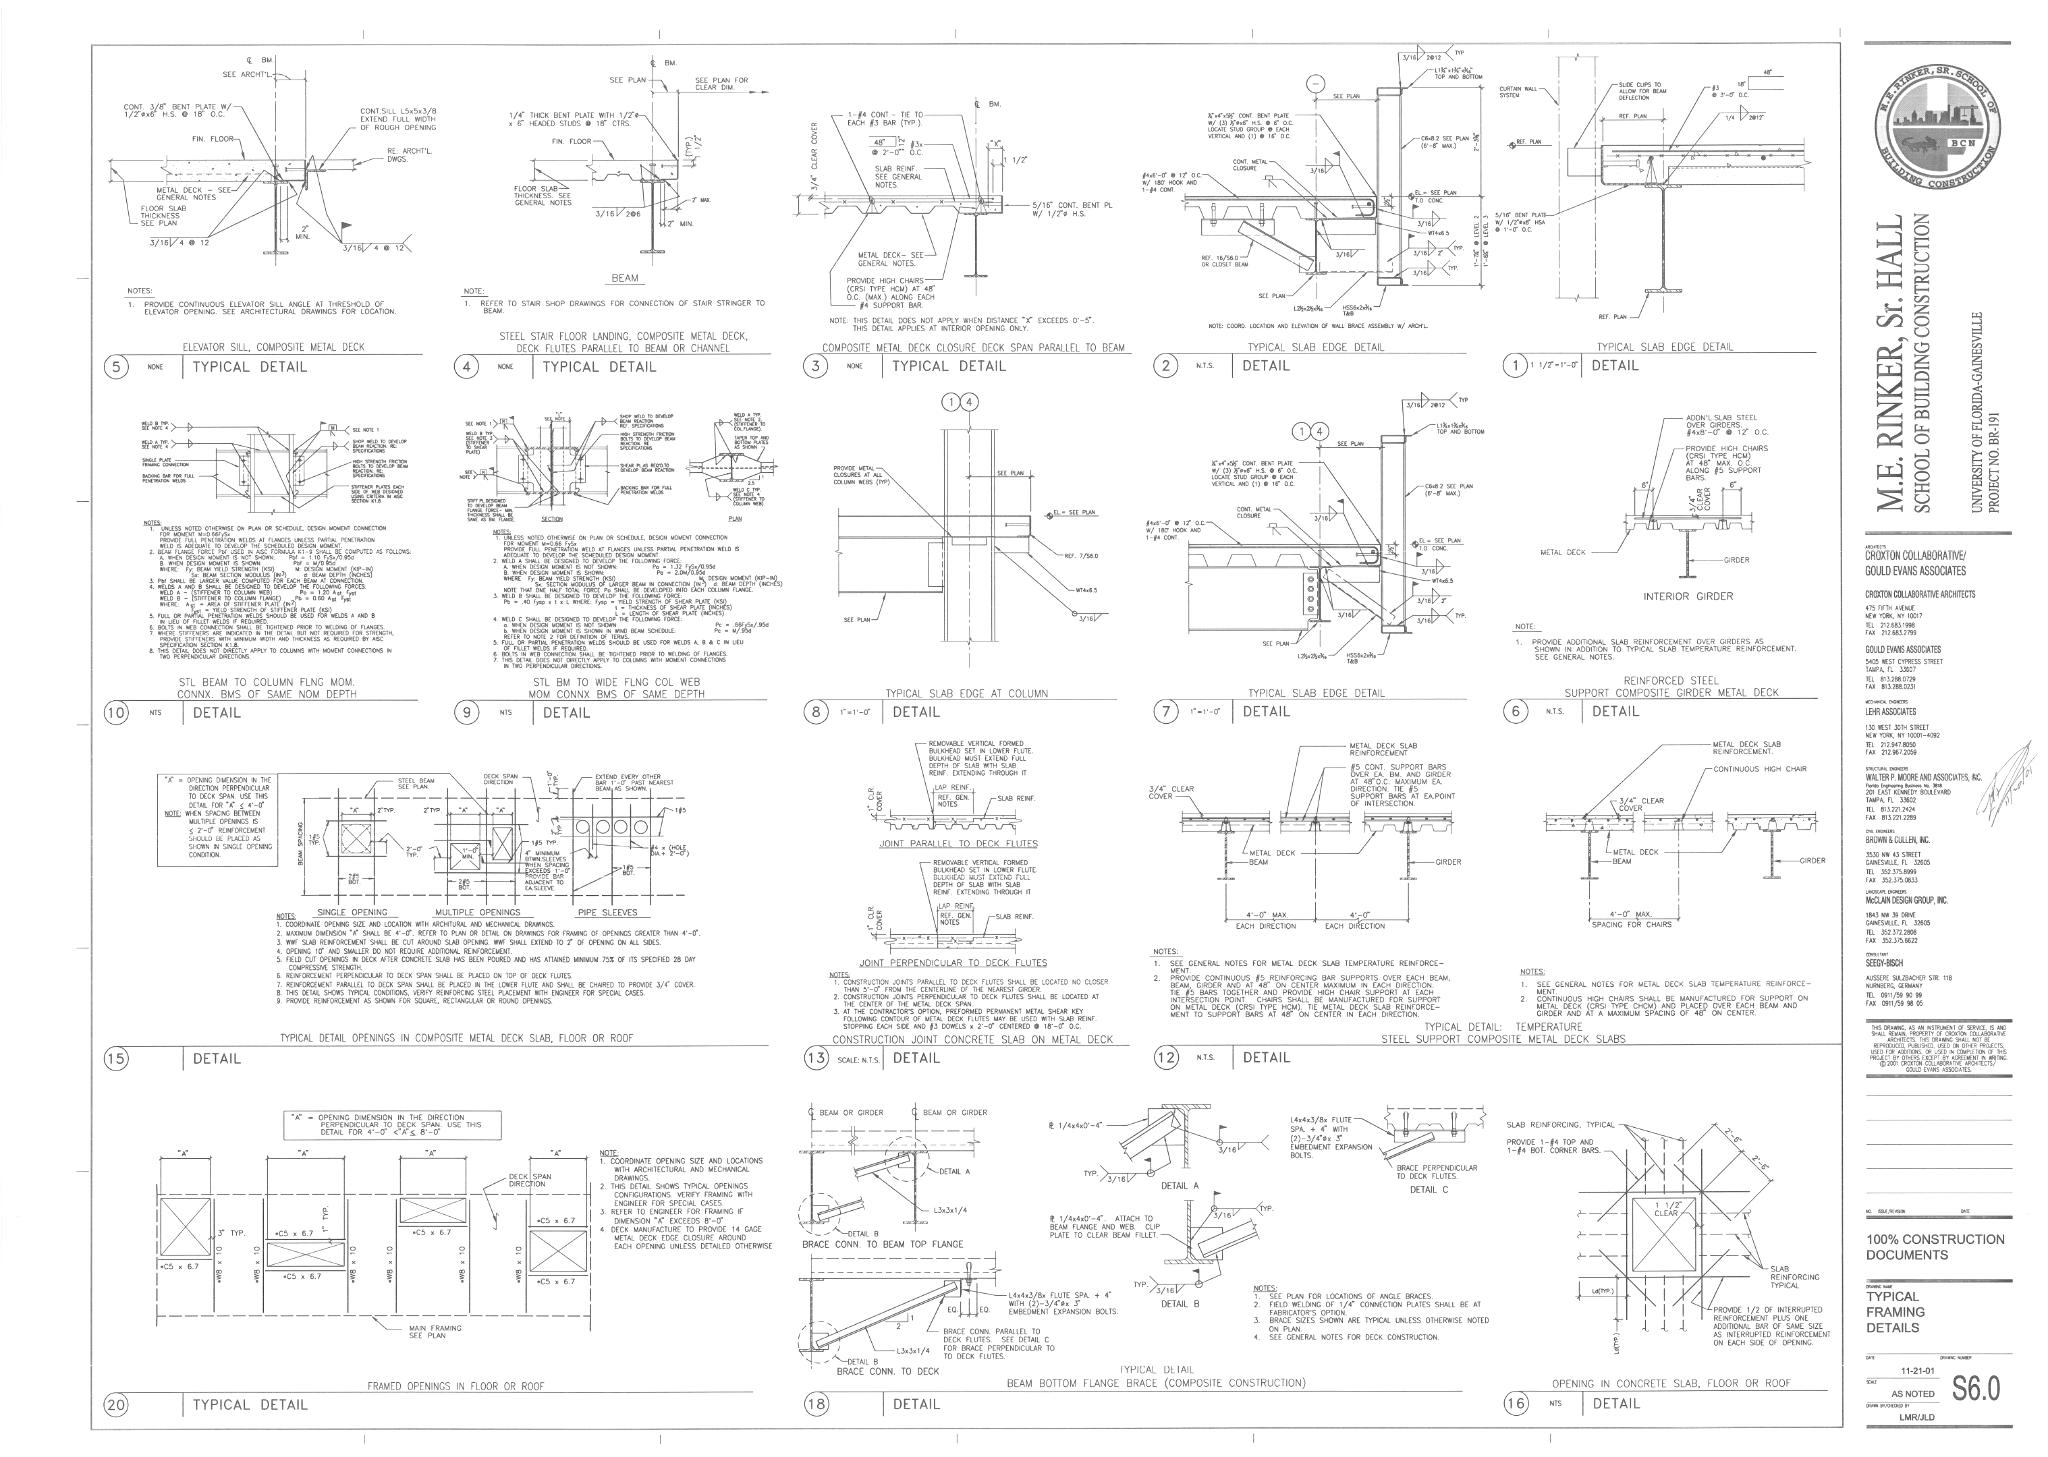title: (1153, 1023, 1836, 1074), (802, 1371, 1465, 1419), (103, 1031, 771, 1073), (102, 1384, 755, 1419), (100, 675, 420, 729), (451, 328, 774, 381), (1501, 674, 1821, 727), (450, 675, 771, 727), (101, 339, 427, 383), (799, 339, 1135, 381), (1498, 338, 1820, 380), (801, 685, 1119, 727), (1149, 685, 1470, 726), (1150, 340, 1470, 381), (1503, 1378, 1829, 1418), (802, 1034, 1130, 1072)
